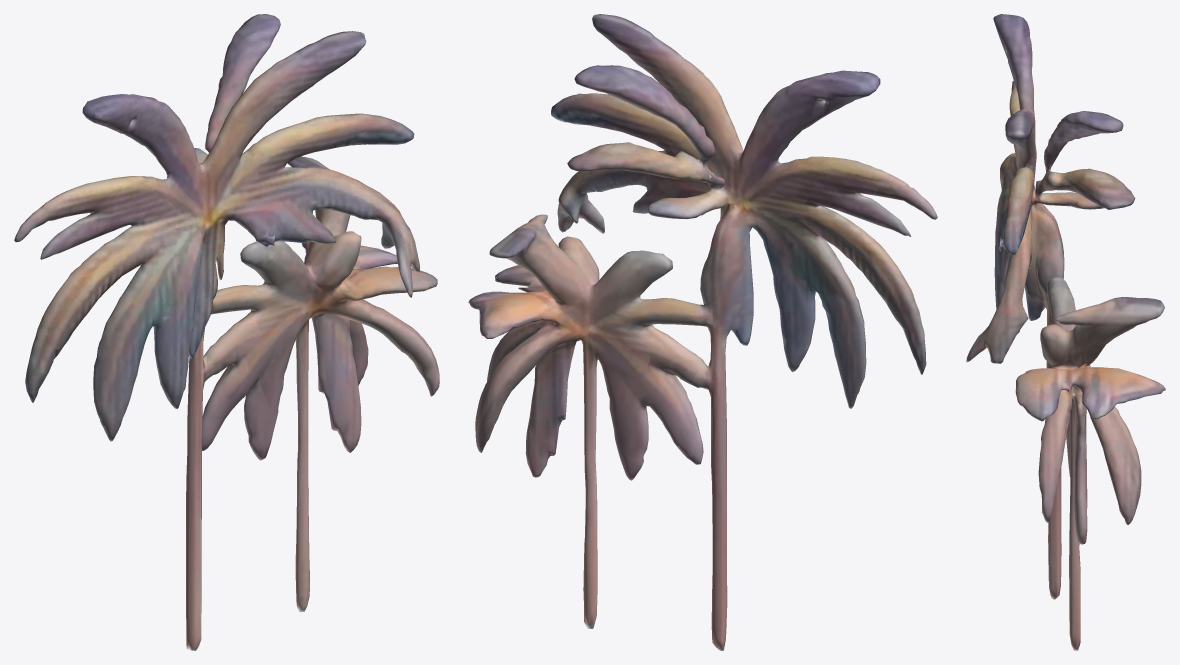
Rendered from brass-palm-trees.glb.
The picture shows the model from 3 angles, left to right: view 1: azimuth 30°, elevation 25°; view 2: azimuth 150°, elevation 25°; view 3: azimuth 270°, elevation 25°; orthographic projection. The views are drawn at different scales.
Visible parts, largest first — view 1: mesh; view 2: mesh; view 3: mesh.
Boxes of the visible parts, bbox=[...] form: mesh: bbox=[14, 14, 439, 650]; mesh: bbox=[468, 14, 937, 650]; mesh: bbox=[966, 14, 1165, 650].
Size of the model in its own units: 1.36 by 1.76 by 0.5969.
Materials: 1 (1 with a texture image).
